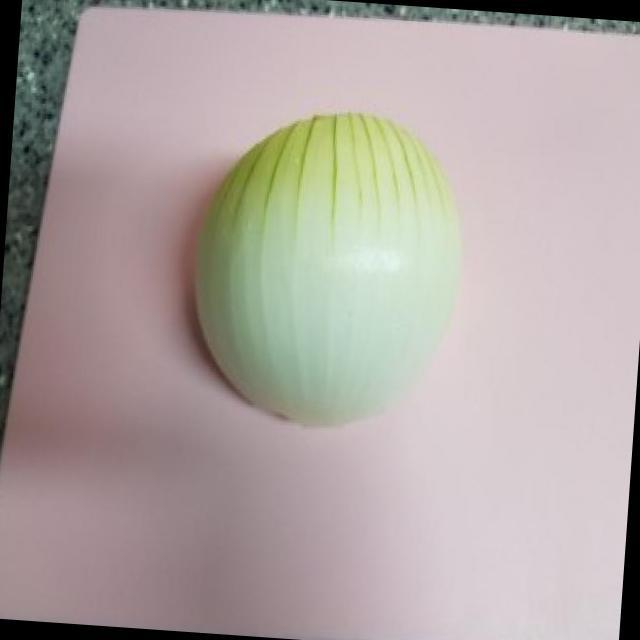Onion: (190, 109, 467, 430)
